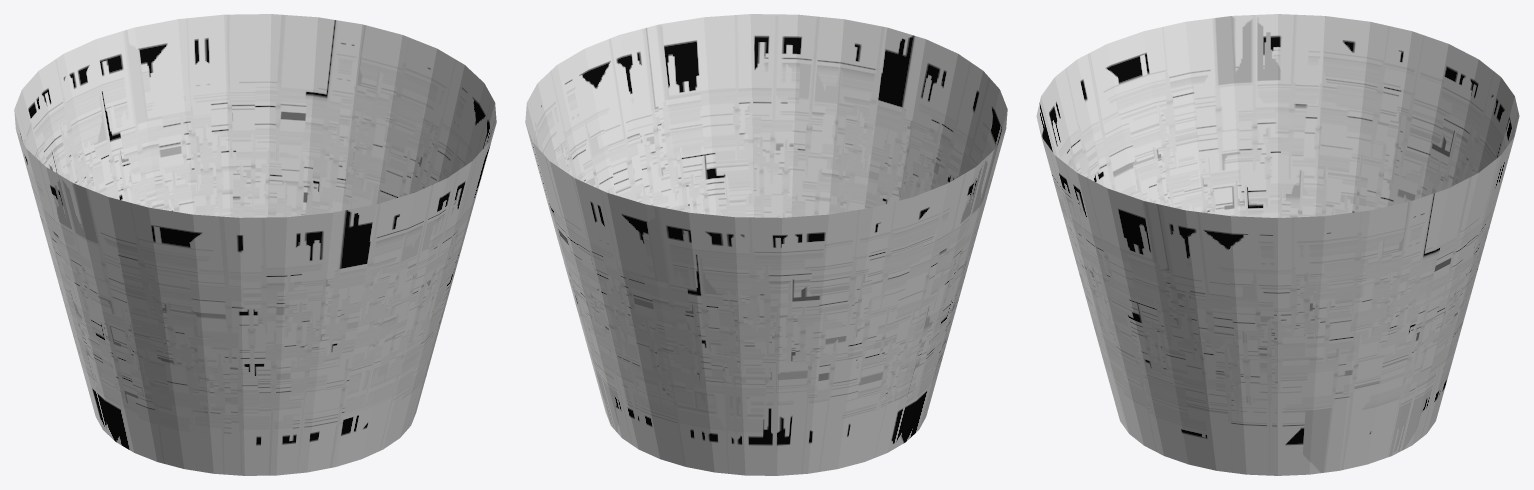
File: StompSpeedEffect.obj
The picture shows the model from 3 angles, left to right: view 1: azimuth 30°, elevation 25°; view 2: azimuth 150°, elevation 25°; view 3: azimuth 270°, elevation 25°; orthographic projection.
Visible parts, largest first — view 1: 円柱; view 2: 円柱; view 3: 円柱.
Part boxes in pixels (<box>): 円柱: <box>14,14,496,475</box>; 円柱: <box>525,14,1007,475</box>; 円柱: <box>1036,14,1519,475</box>.
Bounding box in the file's own units: 7.8 × 5.2 × 7.8.
Materials: 1 (1 with a texture image).
